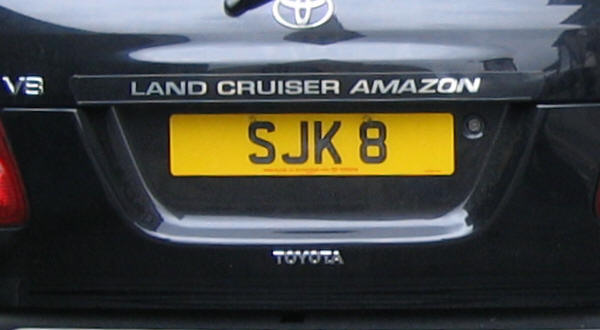license_plate: (169, 110, 457, 178)
